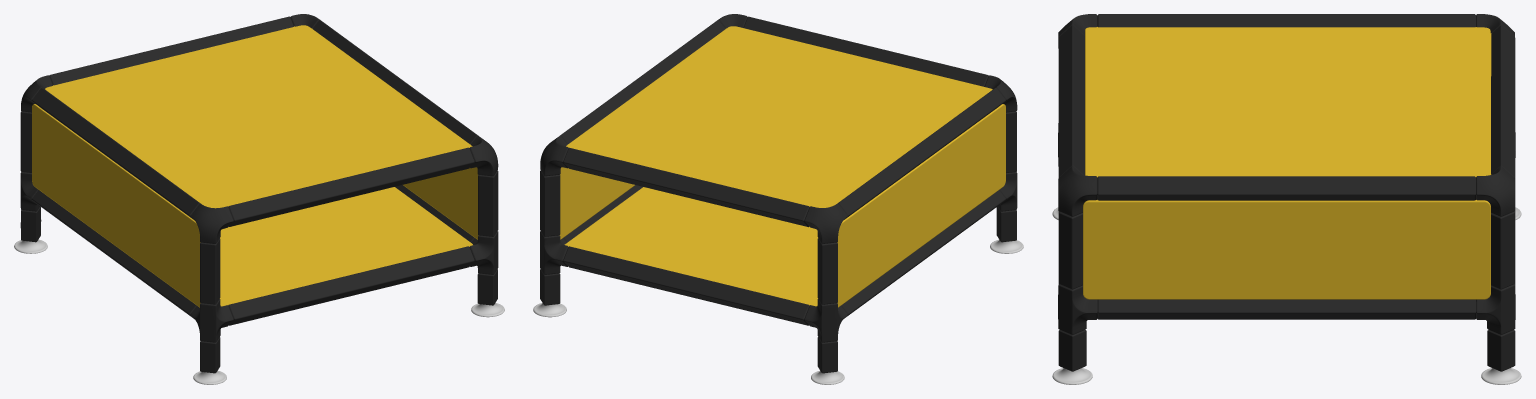
The picture shows the model from 3 angles, left to right: view 1: azimuth 30°, elevation 25°; view 2: azimuth 150°, elevation 25°; view 3: azimuth 270°, elevation 25°; orthographic projection. The views are drawn at different scales.
Parts seen in each view (by area): view 1: 329x374x79; view 2: 329x374x79; view 3: 329x374x79.
Boxes of the visible parts, box(x1,y1,x2,y2) form: 329x374x79: box(14, 14, 504, 384); 329x374x79: box(533, 14, 1023, 384); 329x374x79: box(1052, 14, 1521, 384).
Size of the model in its own units: 0.4189 by 0.2183 by 0.4632.
